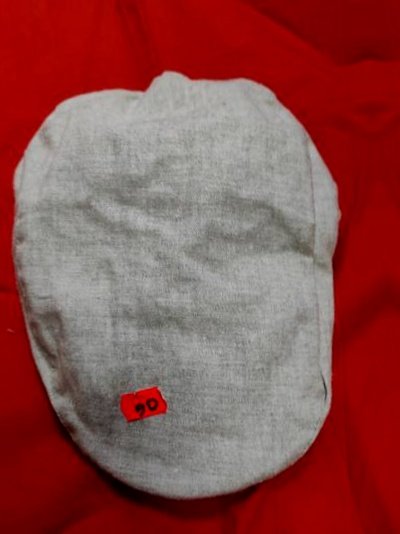Hat: (0, 28, 364, 518), (0, 59, 1, 534)
